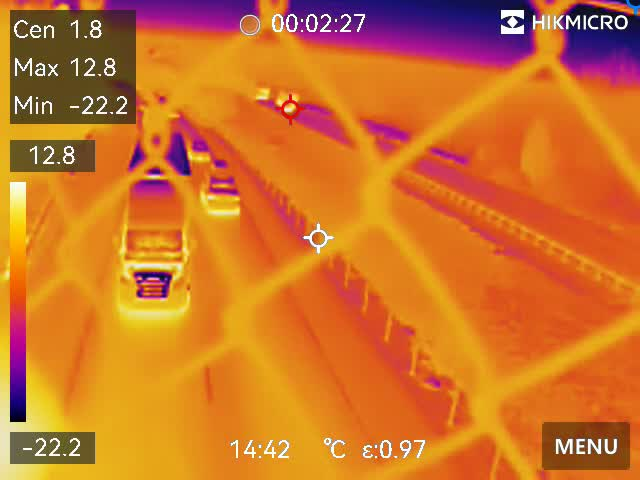heavyTruck: (121, 129, 189, 336)
vehicle: (195, 173, 244, 222), (275, 88, 301, 113), (189, 136, 212, 161), (245, 85, 271, 105)
